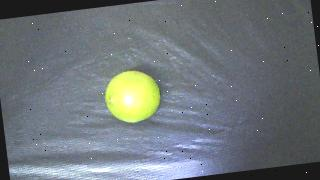LOCAL: (102, 67, 163, 125)
